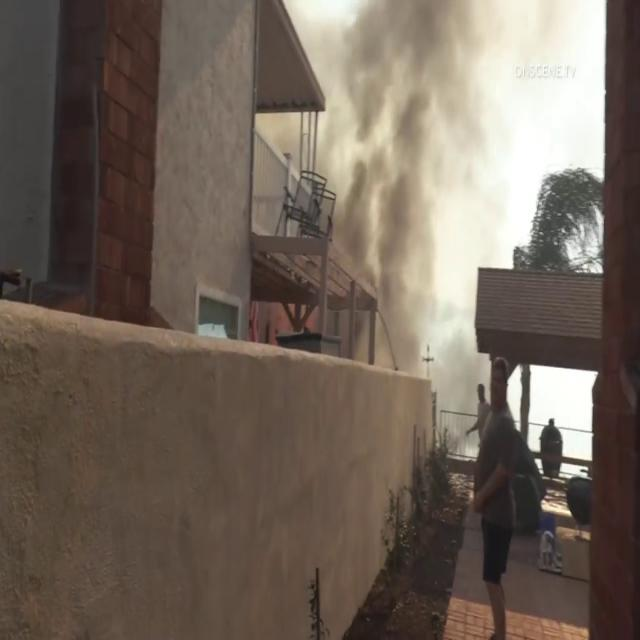Smoke: (310, 0, 500, 350)
